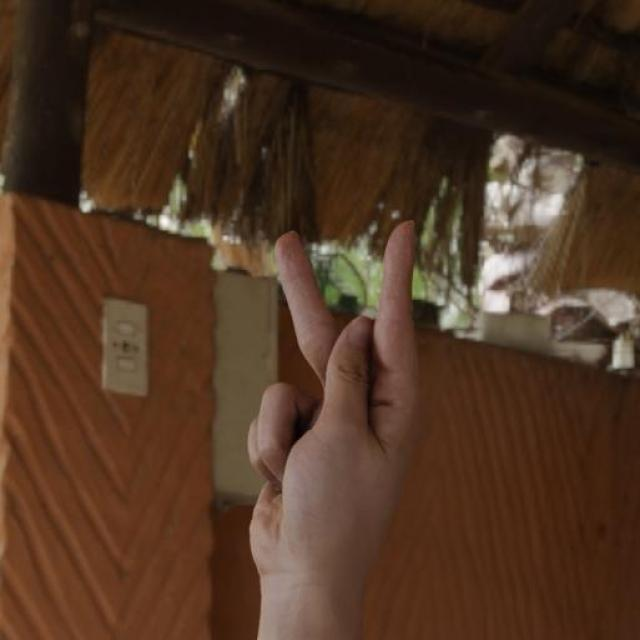K: (244, 214, 423, 586)
